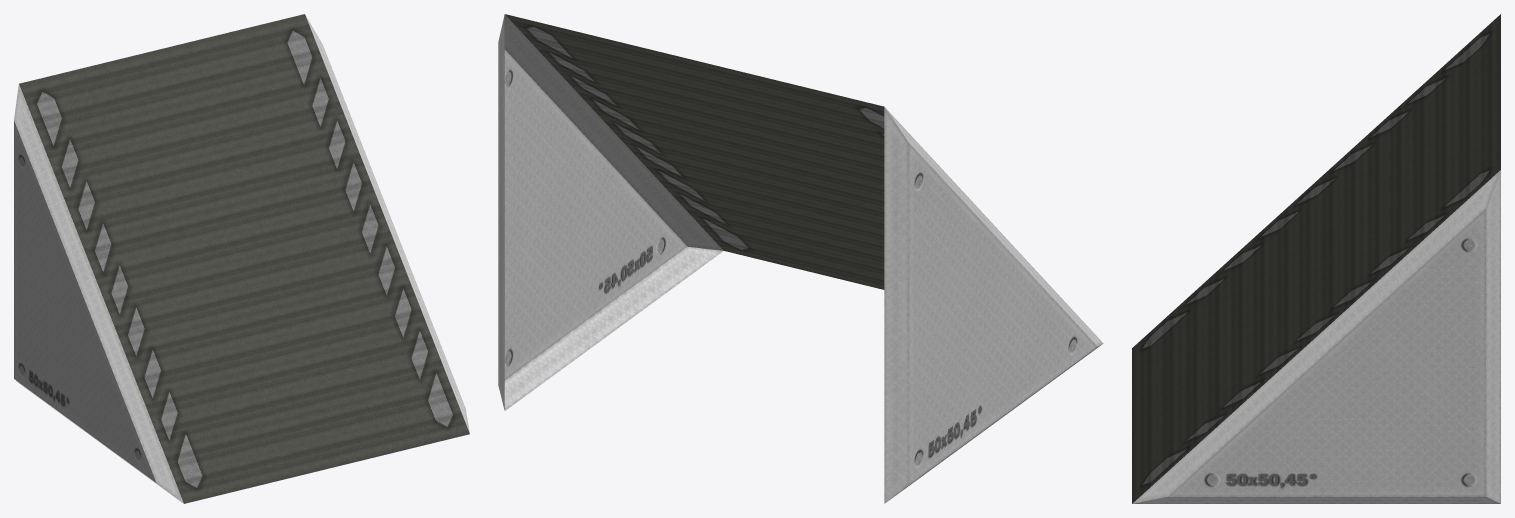
File: SlopeHigh.FBX
3 renders of one model, left to right at view 1: azimuth 30°, elevation 25°; view 2: azimuth 150°, elevation 25°; view 3: azimuth 270°, elevation 25°, orthographic. The views are drawn at different scales.
Parts seen in each view (by area): view 1: SlopeHigh001; view 2: SlopeHigh001; view 3: SlopeHigh001.
Part boxes in pixels (left/top/right/bottom): SlopeHigh001: left=14, top=14, right=469, bottom=503; SlopeHigh001: left=498, top=14, right=1103, bottom=503; SlopeHigh001: left=1132, top=14, right=1500, bottom=503.
Size of the model in its own units: 54 by 50 by 50.
Materials: 1 (1 with a texture image).
